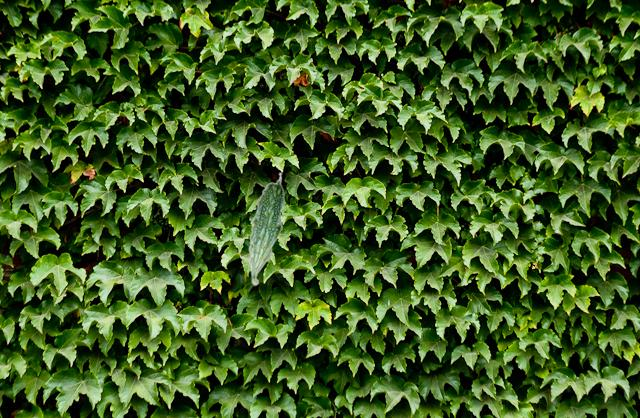ampalaya: (247, 171, 285, 288)
